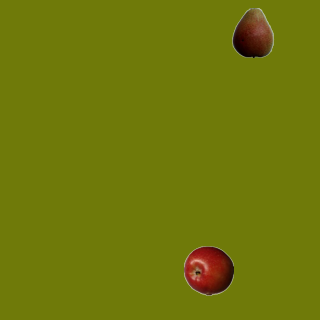Apple Braeburn: (183, 245, 233, 295)
Pear Forelle: (227, 7, 277, 57)
